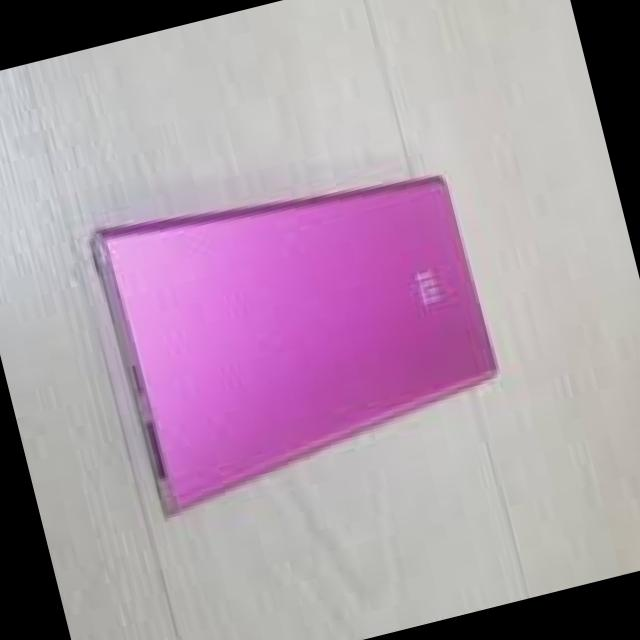power_bank: (84, 148, 514, 522)
